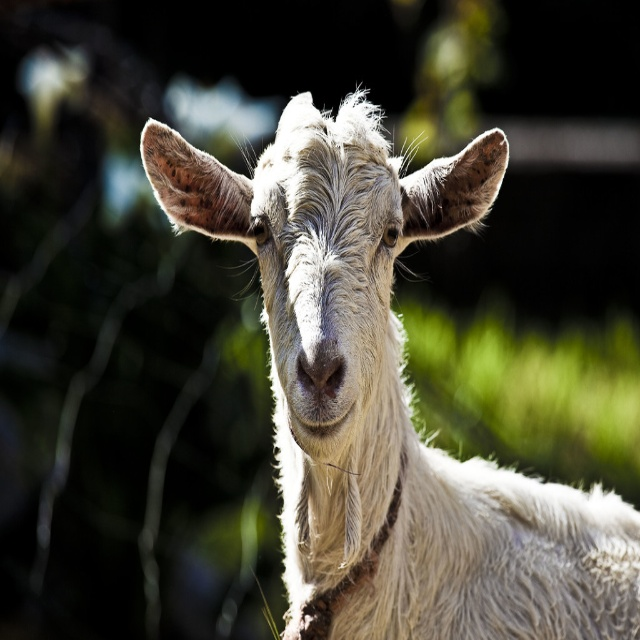Goat: (140, 89, 640, 636)
